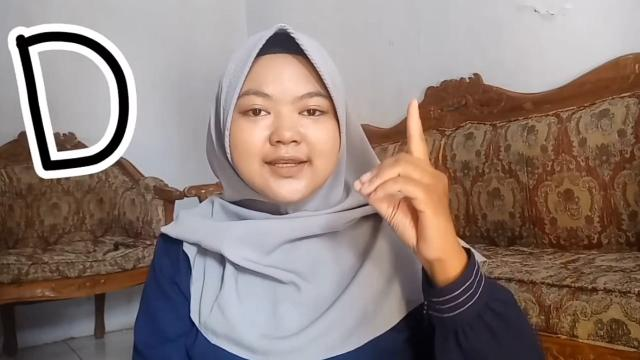D: (352, 95, 464, 268)
